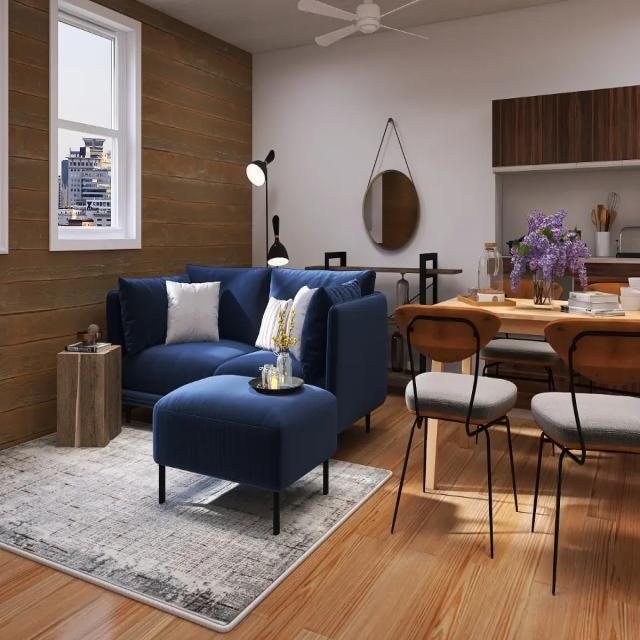vintage chair: (389, 300, 524, 567), (540, 295, 640, 598)
